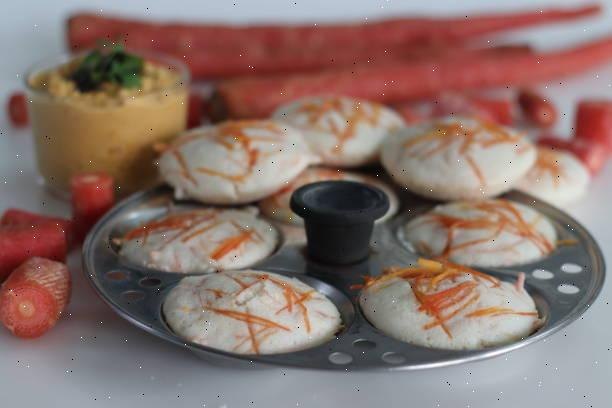idli: (382, 119, 550, 338), (169, 128, 310, 355), (285, 100, 403, 160)
